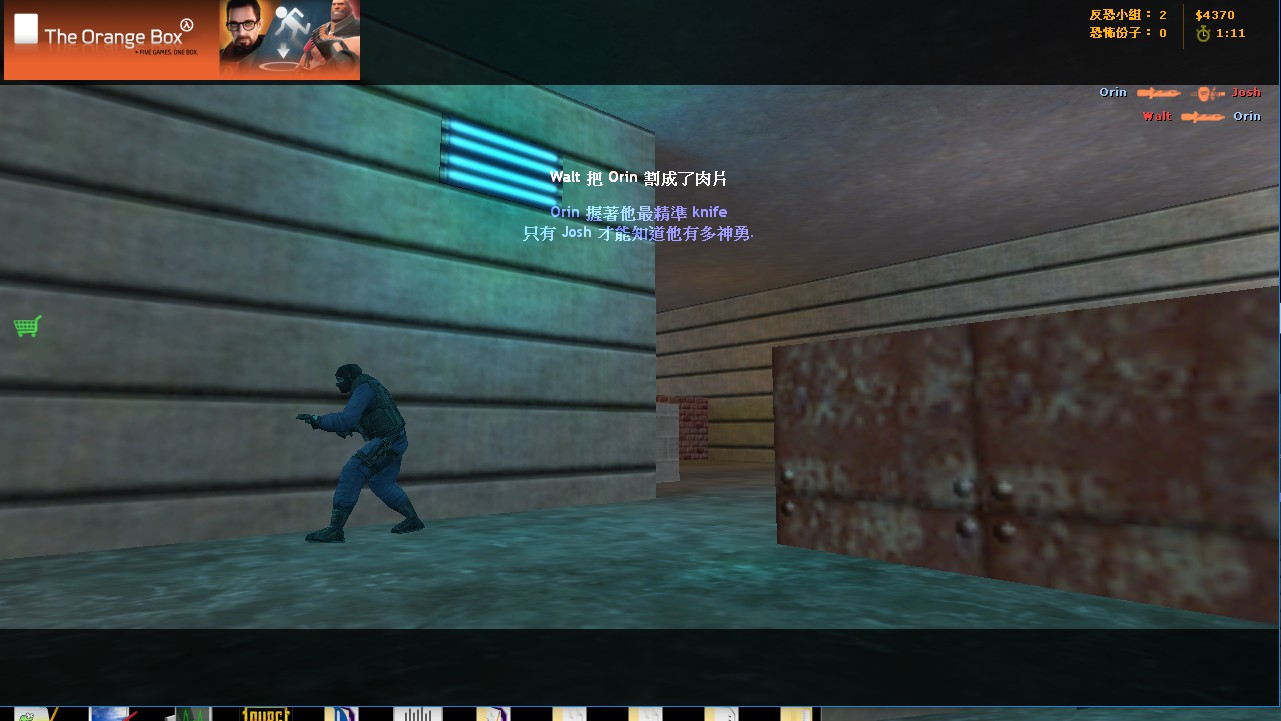person: (315, 359, 431, 540)
